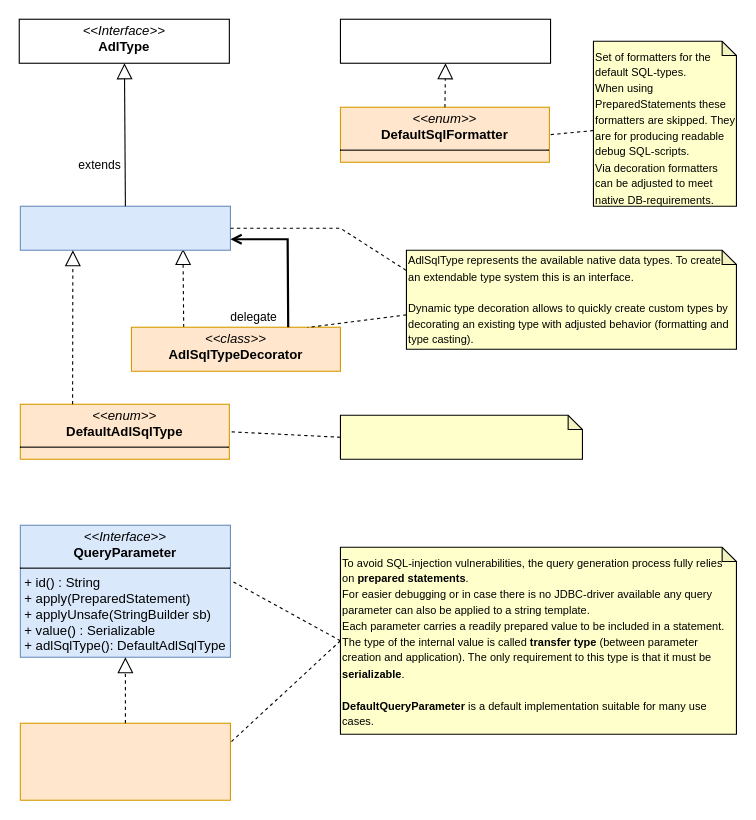
The diagram is 756 pixels wide and 820 high, and some of its shapes have lost their labels. The centre of each missing label's shape, as x and y in pixels:
"<<Interface>> AdlSqlType" belongs at point (124, 227).
"<<Interface>> ArgValueFormatter" belongs at point (445, 40).
"<<record>> DefaultQueryParameter" belongs at point (124, 761).
"A comprehensive set of JDBC types for easy mapping of native types to ADL-types" belongs at point (460, 436).
